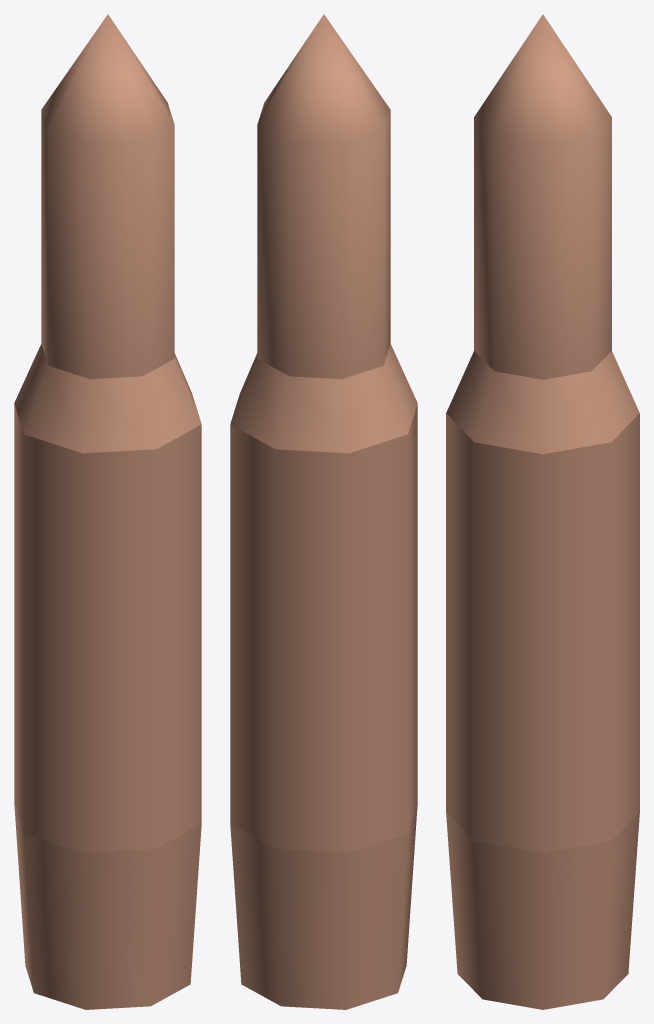
File: Bullet.fbx
3 views of the same model, side by side, from view 1: azimuth 30°, elevation 25°; view 2: azimuth 150°, elevation 25°; view 3: azimuth 270°, elevation 25° (orthographic).
Parts seen in each view (by area): view 1: Bullet; view 2: Bullet; view 3: Bullet.
Boxes of the visible parts, x1,y1,x2,y2 form: Bullet: (14,14,201,1009); Bullet: (230,14,417,1009); Bullet: (446,14,639,1009).
Bounding box in the file's own units: 1.81 × 9.89 × 1.81.
